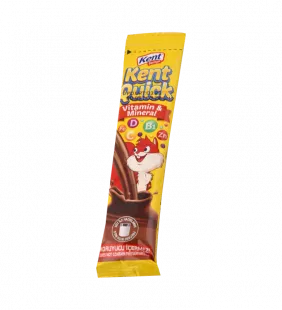KENT: (91, 20, 196, 285)
